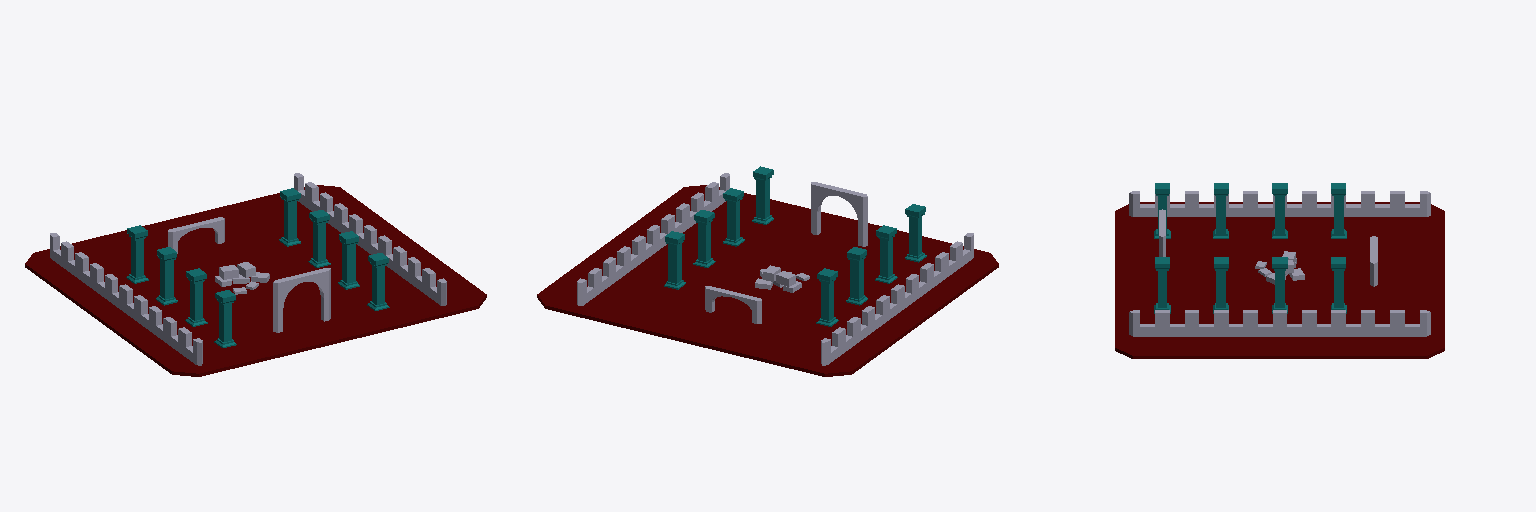
Rendered from shadow_test.obj.
3 renders of one model, left to right at view 1: azimuth 30°, elevation 25°; view 2: azimuth 150°, elevation 25°; view 3: azimuth 270°, elevation 25°, orthographic.
Visible parts, largest first — view 1: floor_square_9, wall_archwaySingle_0, debris_bricks_10, battlement_straight_5, battlement_straight_0, structure_column_7, structure_column_2, structure_column_1, structure_column_4, structure_column_5, structure_column_6, structure_column_8 (+10 smaller); view 2: floor_square_9, wall_archwaySingle_0, battlement_straight_9, battlement_straight_4, structure_column_1, debris_bricks_10, structure_column_7, structure_column_4, structure_column_2, structure_column_5, structure_column_6, structure_column_8 (+10 smaller); view 3: floor_square_9, battlement_straight_0, battlement_straight_4, battlement_straight_9, battlement_straight_1, battlement_straight_3, battlement_straight_2, battlement_straight_5, battlement_straight_6, battlement_straight_8, battlement_straight_7, structure_column_7 (+7 smaller).
Part boxes in pixels (x1,y1,x2,y2): floor_square_9: (25, 185, 486, 376); wall_archwaySingle_0: (273, 268, 330, 332); debris_bricks_10: (215, 262, 269, 294); battlement_straight_5: (167, 319, 202, 365); battlement_straight_0: (411, 260, 446, 305); structure_column_7: (156, 247, 177, 305); structure_column_2: (338, 231, 359, 289); structure_column_1: (367, 253, 389, 310); structure_column_4: (279, 188, 300, 246); structure_column_5: (214, 290, 236, 347); structure_column_6: (185, 268, 207, 326); structure_column_8: (126, 225, 148, 283); floor_square_9: (537, 185, 998, 376); wall_archwaySingle_0: (811, 182, 867, 246); battlement_straight_9: (821, 319, 856, 365); battlement_straight_4: (577, 260, 612, 305); structure_column_1: (752, 166, 773, 224); debris_bricks_10: (755, 265, 809, 292); structure_column_7: (846, 247, 867, 305); structure_column_4: (664, 231, 685, 289); structure_column_2: (723, 188, 744, 246); structure_column_5: (905, 204, 926, 262); structure_column_6: (875, 225, 897, 283); structure_column_8: (816, 268, 838, 326); floor_square_9: (1115, 202, 1444, 358); battlement_straight_0: (1129, 310, 1194, 336); battlement_straight_4: (1368, 310, 1430, 336); battlement_straight_9: (1365, 191, 1430, 216); battlement_straight_1: (1190, 310, 1252, 336); battlement_straight_3: (1309, 310, 1370, 336); battlement_straight_2: (1250, 310, 1311, 336); battlement_straight_5: (1129, 191, 1194, 216); battlement_straight_6: (1190, 191, 1251, 216); battlement_straight_8: (1306, 191, 1370, 216); battlement_straight_7: (1251, 191, 1312, 216); structure_column_7: (1272, 183, 1287, 238).
Bounding box in the file's own units: 6.19 × 1 × 5.62.